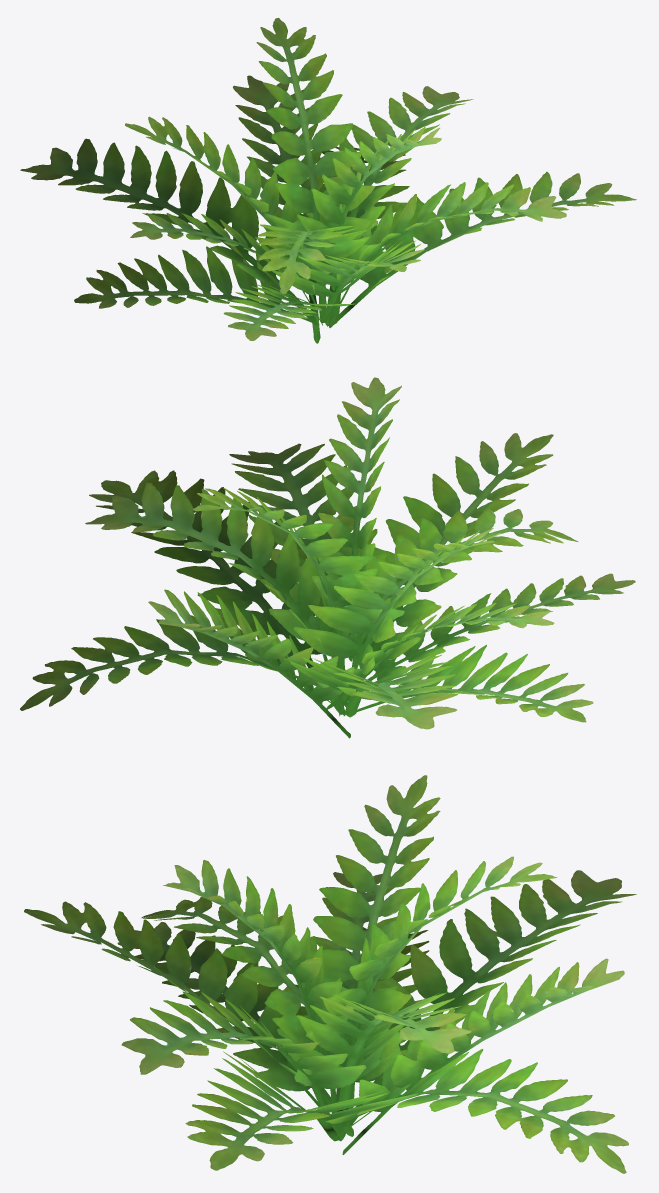
File: P_Fern3_Yellow.obj
3 views of the same model, one above another, from view 1: azimuth 30°, elevation 25°; view 2: azimuth 150°, elevation 25°; view 3: azimuth 270°, elevation 25° (orthographic). The views are drawn at different scales.
Size of the model in its own units: 3.06 by 1.47 by 2.71.
